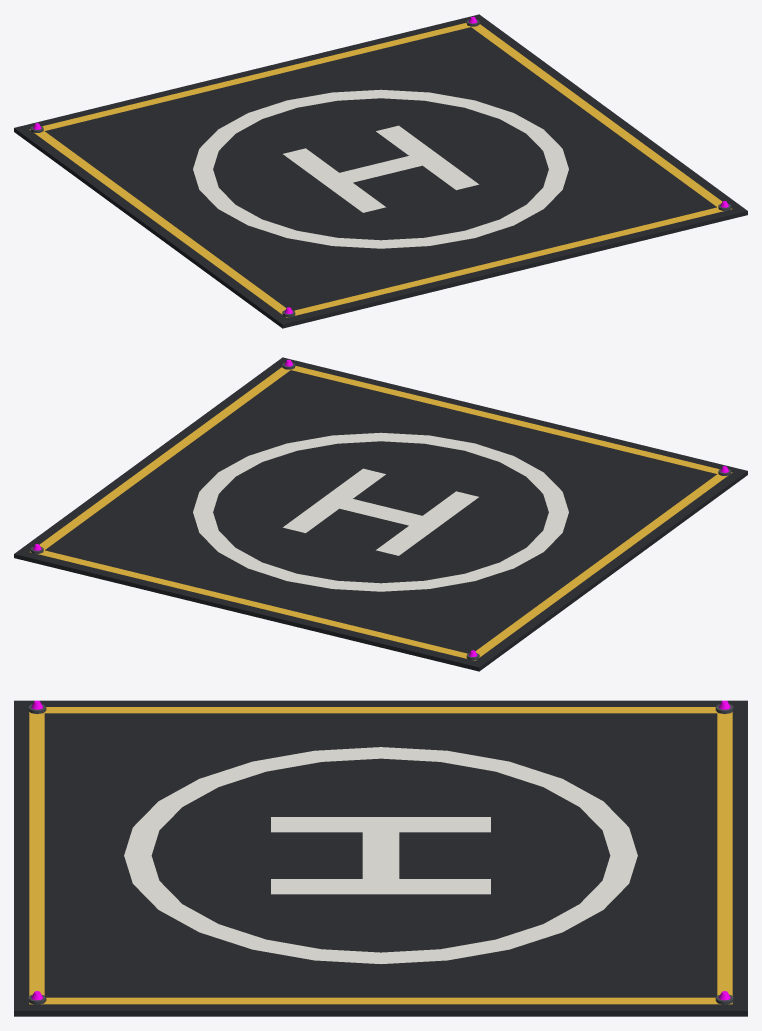
Rendered from roof_helipad.glb.
3 renders of one model, top to bottom at view 1: azimuth 30°, elevation 25°; view 2: azimuth 150°, elevation 25°; view 3: azimuth 270°, elevation 25°, orthographic. The views are drawn at different scales.
Visible parts, largest first — view 1: roof_helipad__mesh; view 2: roof_helipad__mesh; view 3: roof_helipad__mesh.
Boxes of the visible parts, x1,y1,x2,y2 form: roof_helipad__mesh: [14, 14, 747, 328]; roof_helipad__mesh: [14, 357, 747, 671]; roof_helipad__mesh: [14, 700, 747, 1016].
Size of the model in its own units: 12 by 0.26 by 12.
1 material, 1 textured.
